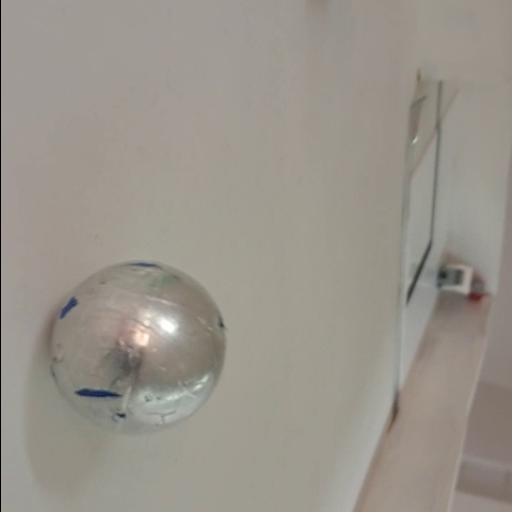alive: (40, 257, 230, 437)
